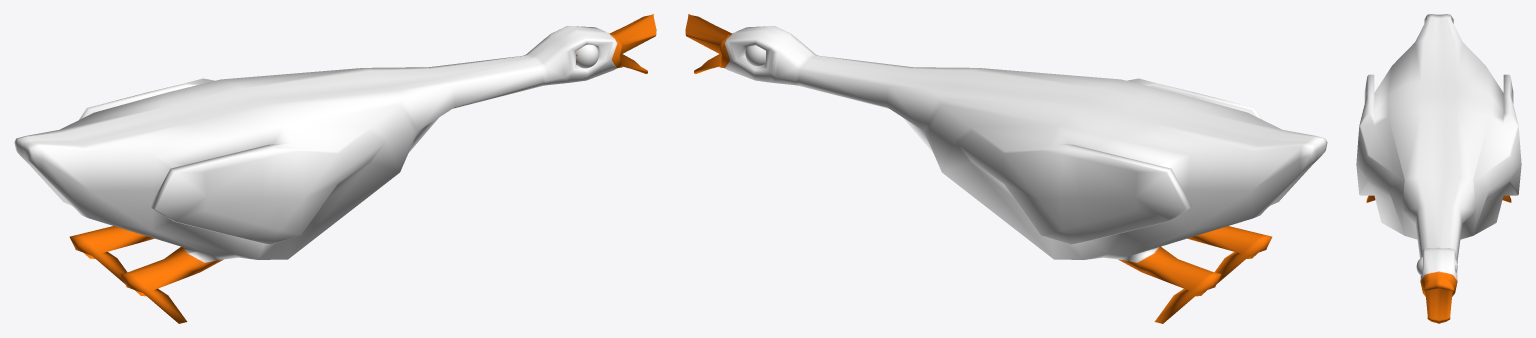
Rendered from Ryan.fbx.
3 renders of one model, left to right at view 1: azimuth 30°, elevation 25°; view 2: azimuth 150°, elevation 25°; view 3: azimuth 270°, elevation 25°, orthographic. The views are drawn at different scales.
Parts seen in each view (by area): view 1: Plane003, Sphere002; view 2: Plane003; view 3: Plane003.
Part boxes in pixels (x1,y1,x2,y2): Plane003: (14,14,656,323); Sphere002: (576,44,598,68); Plane003: (685,14,1327,323); Plane003: (1356,14,1521,323).
Size of the model in its own units: 128 by 34.16 by 36.01.
